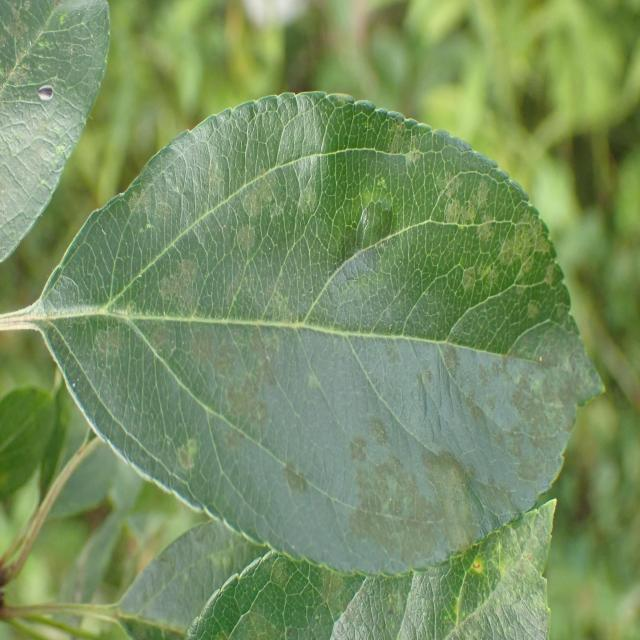scab: (63, 112, 571, 585), (304, 522, 582, 638), (0, 0, 79, 254)
